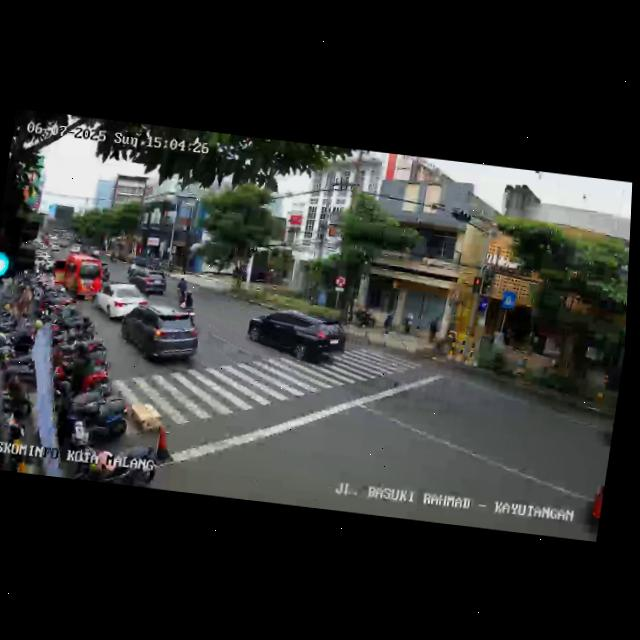car: (244, 304, 347, 369), (116, 301, 204, 370), (48, 251, 105, 303), (91, 279, 150, 324), (126, 268, 170, 297)
motorcycle: (172, 284, 201, 325)
